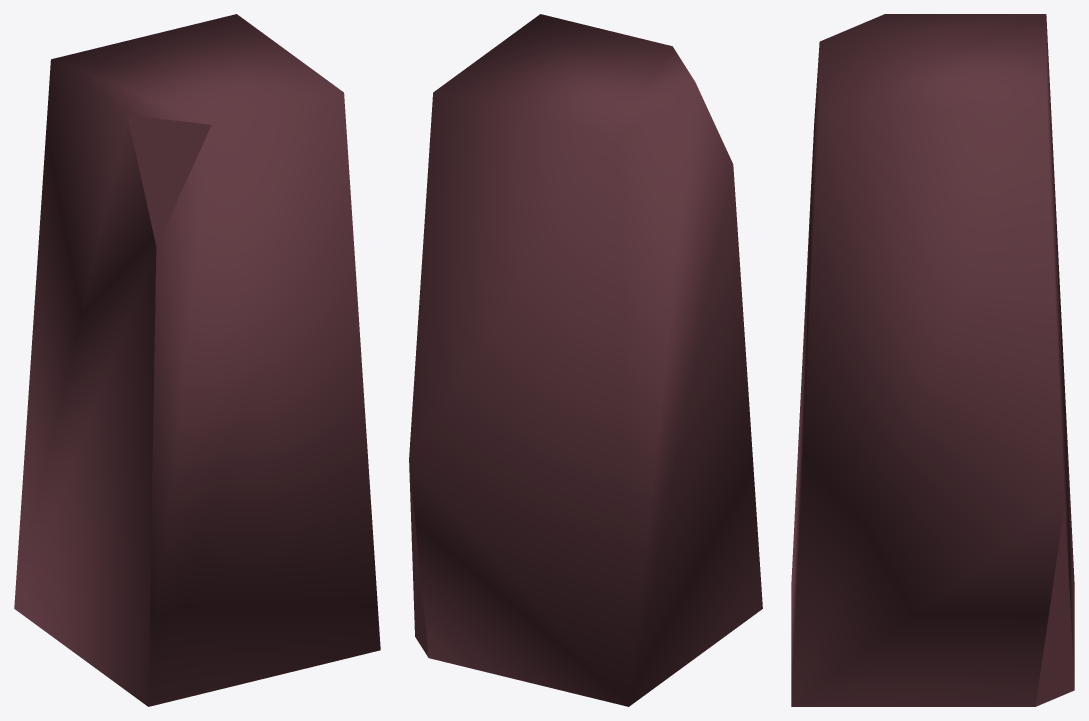
Rendered from obelisc3.fbx.
The picture shows the model from 3 angles, left to right: view 1: azimuth 30°, elevation 25°; view 2: azimuth 150°, elevation 25°; view 3: azimuth 270°, elevation 25°; orthographic projection. The views are drawn at different scales.
Parts seen in each view (by area): view 1: obelisk-old.003; view 2: obelisk-old.003; view 3: obelisk-old.003.
Boxes of the visible parts, x1=… form: obelisk-old.003: x1=14, y1=14, x2=380, y2=706; obelisk-old.003: x1=409, y1=14, x2=762, y2=706; obelisk-old.003: x1=791, y1=14, x2=1074, y2=706.
Size of the model in its own units: 217 by 493 by 217.
